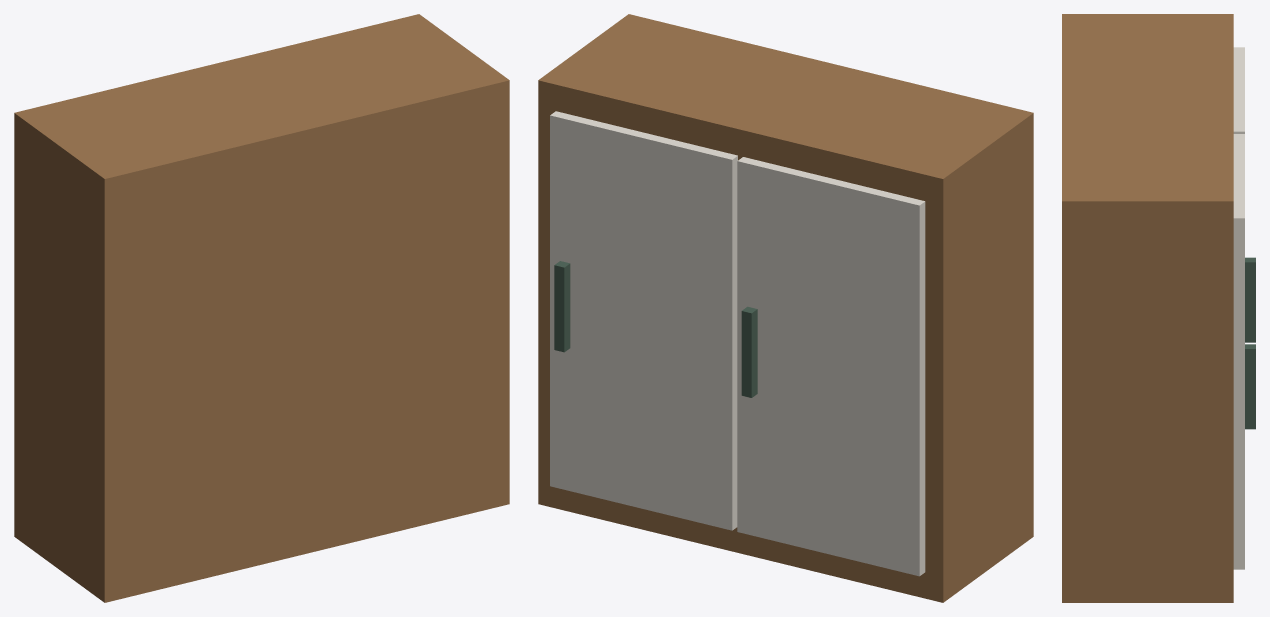
The picture shows the model from 3 angles, left to right: view 1: azimuth 30°, elevation 25°; view 2: azimuth 150°, elevation 25°; view 3: azimuth 270°, elevation 25°; orthographic projection. The views are drawn at different scales.
Parts seen in each view (by area): view 1: body; view 2: body, door-0, door-1, handle-1, handle-0; view 3: body, door-1, door-0, handle-0, handle-1.
Boxes of the visible parts, x1,y1,x2,y2 form: body: (14, 14, 509, 602); body: (538, 14, 1033, 602); door-0: (737, 157, 925, 576); door-1: (550, 111, 737, 530); handle-1: (554, 261, 570, 352); handle-0: (741, 306, 757, 397); body: (1062, 14, 1233, 602); door-1: (1233, 134, 1244, 569); door-0: (1233, 47, 1244, 133); handle-0: (1245, 257, 1255, 342); handle-1: (1245, 344, 1255, 429).
Bounding box in the file's own units: 0.8 × 0.8 × 0.35.
